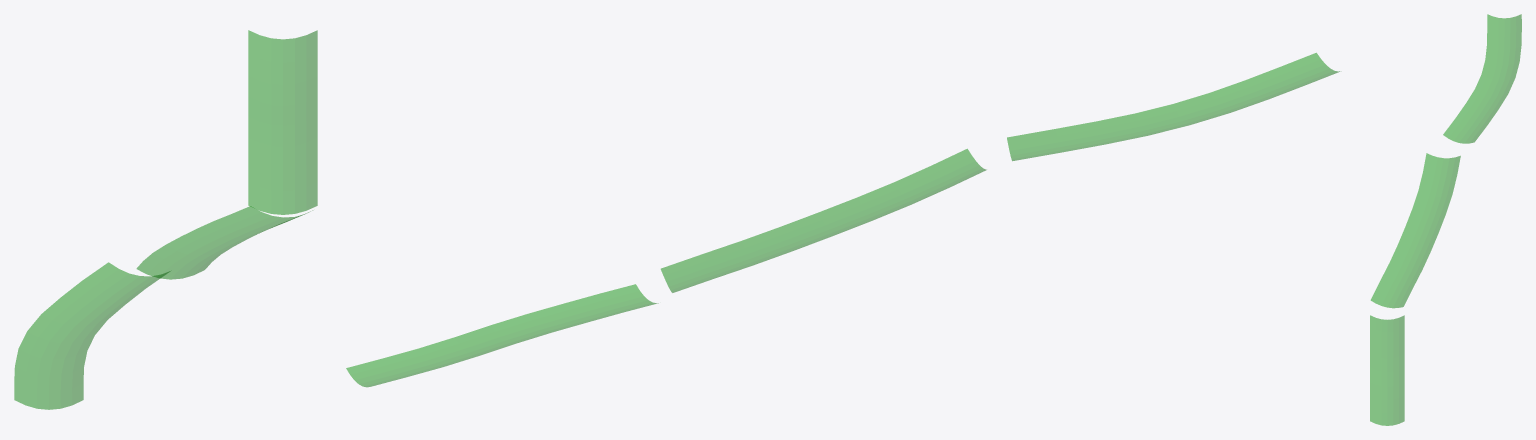
The model's file is road.obj.
The picture shows the model from 3 angles, left to right: view 1: azimuth 90°, elevation 25°; view 2: azimuth 210°, elevation 25°; view 3: azimuth 270°, elevation 25°; orthographic projection. The views are drawn at different scales.
Size of the model in its own units: 324 by 59.02 by 70.1.
